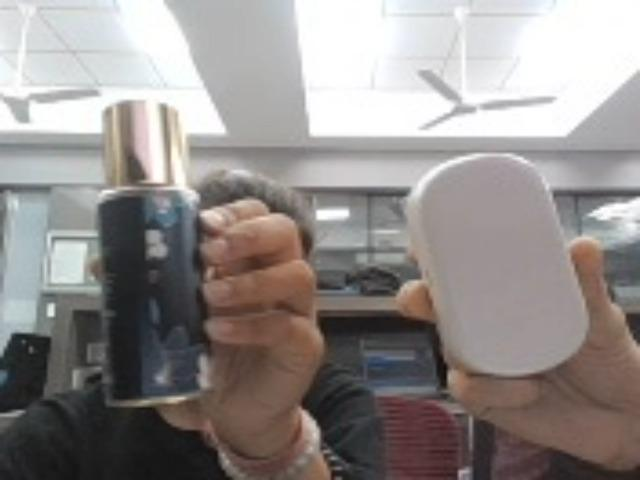box: (385, 140, 611, 374)
cube: (75, 82, 244, 416)
